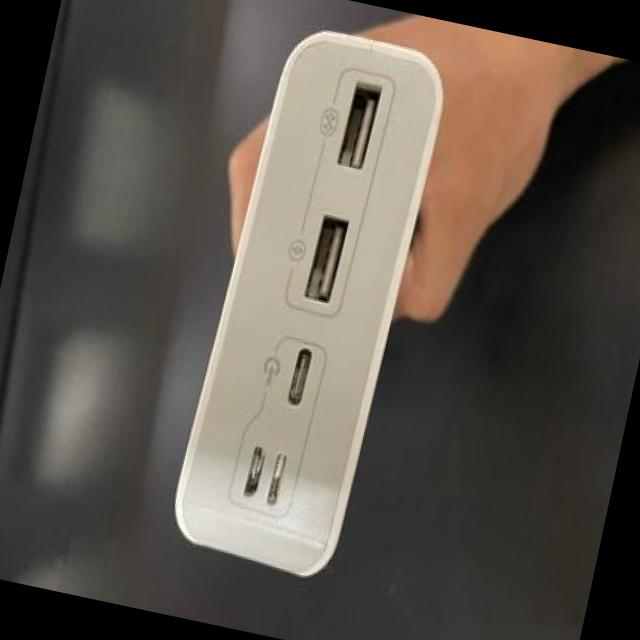power_bank: (158, 6, 462, 592)
